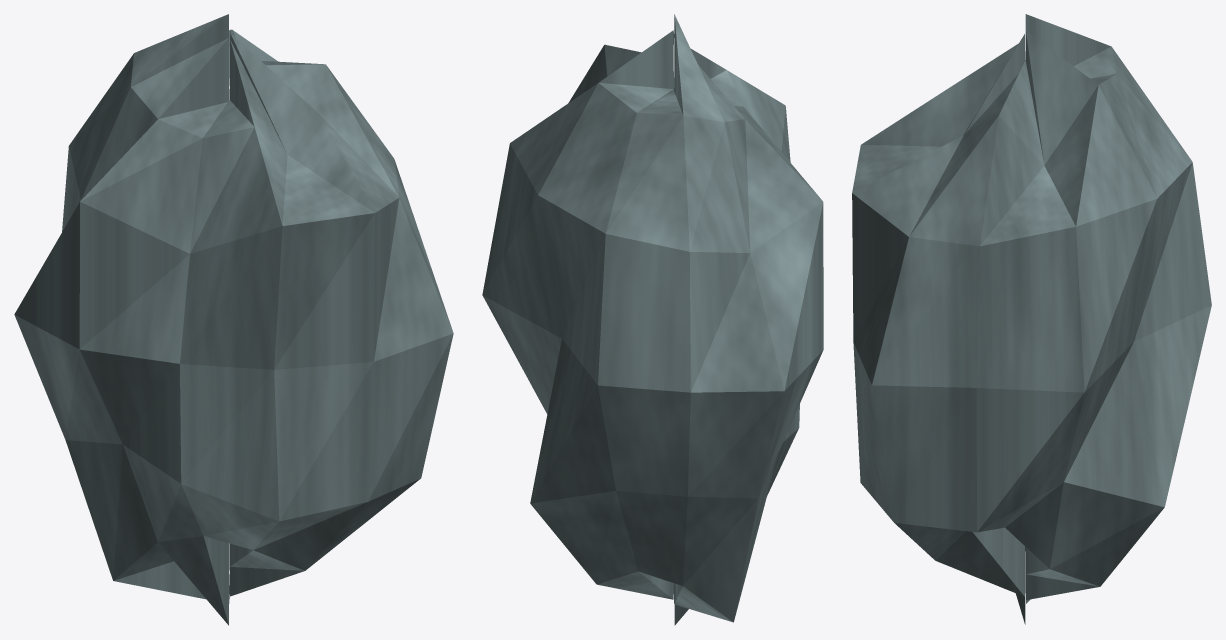
The model's file is cliff_formation_03.glb.
The picture shows the model from 3 angles, left to right: view 1: azimuth 30°, elevation 25°; view 2: azimuth 150°, elevation 25°; view 3: azimuth 270°, elevation 25°; orthographic projection.
Parts seen in each view (by area): view 1: rock; view 2: rock; view 3: rock.
Boxes of the visible parts, <box> form: rock: <box>14,14,453,625</box>; rock: <box>482,14,823,625</box>; rock: <box>852,14,1211,624</box>.
Size of the model in its own units: 17.17 by 30.91 by 16.47.
1 material, 1 textured.
